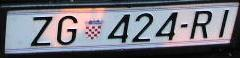-: (180, 23, 188, 29)
2: (131, 13, 152, 43)
4: (106, 13, 130, 43), (155, 12, 178, 42)
G: (57, 15, 78, 44)
I: (219, 9, 231, 38)
R: (189, 10, 212, 39)
Z: (30, 16, 52, 47)
